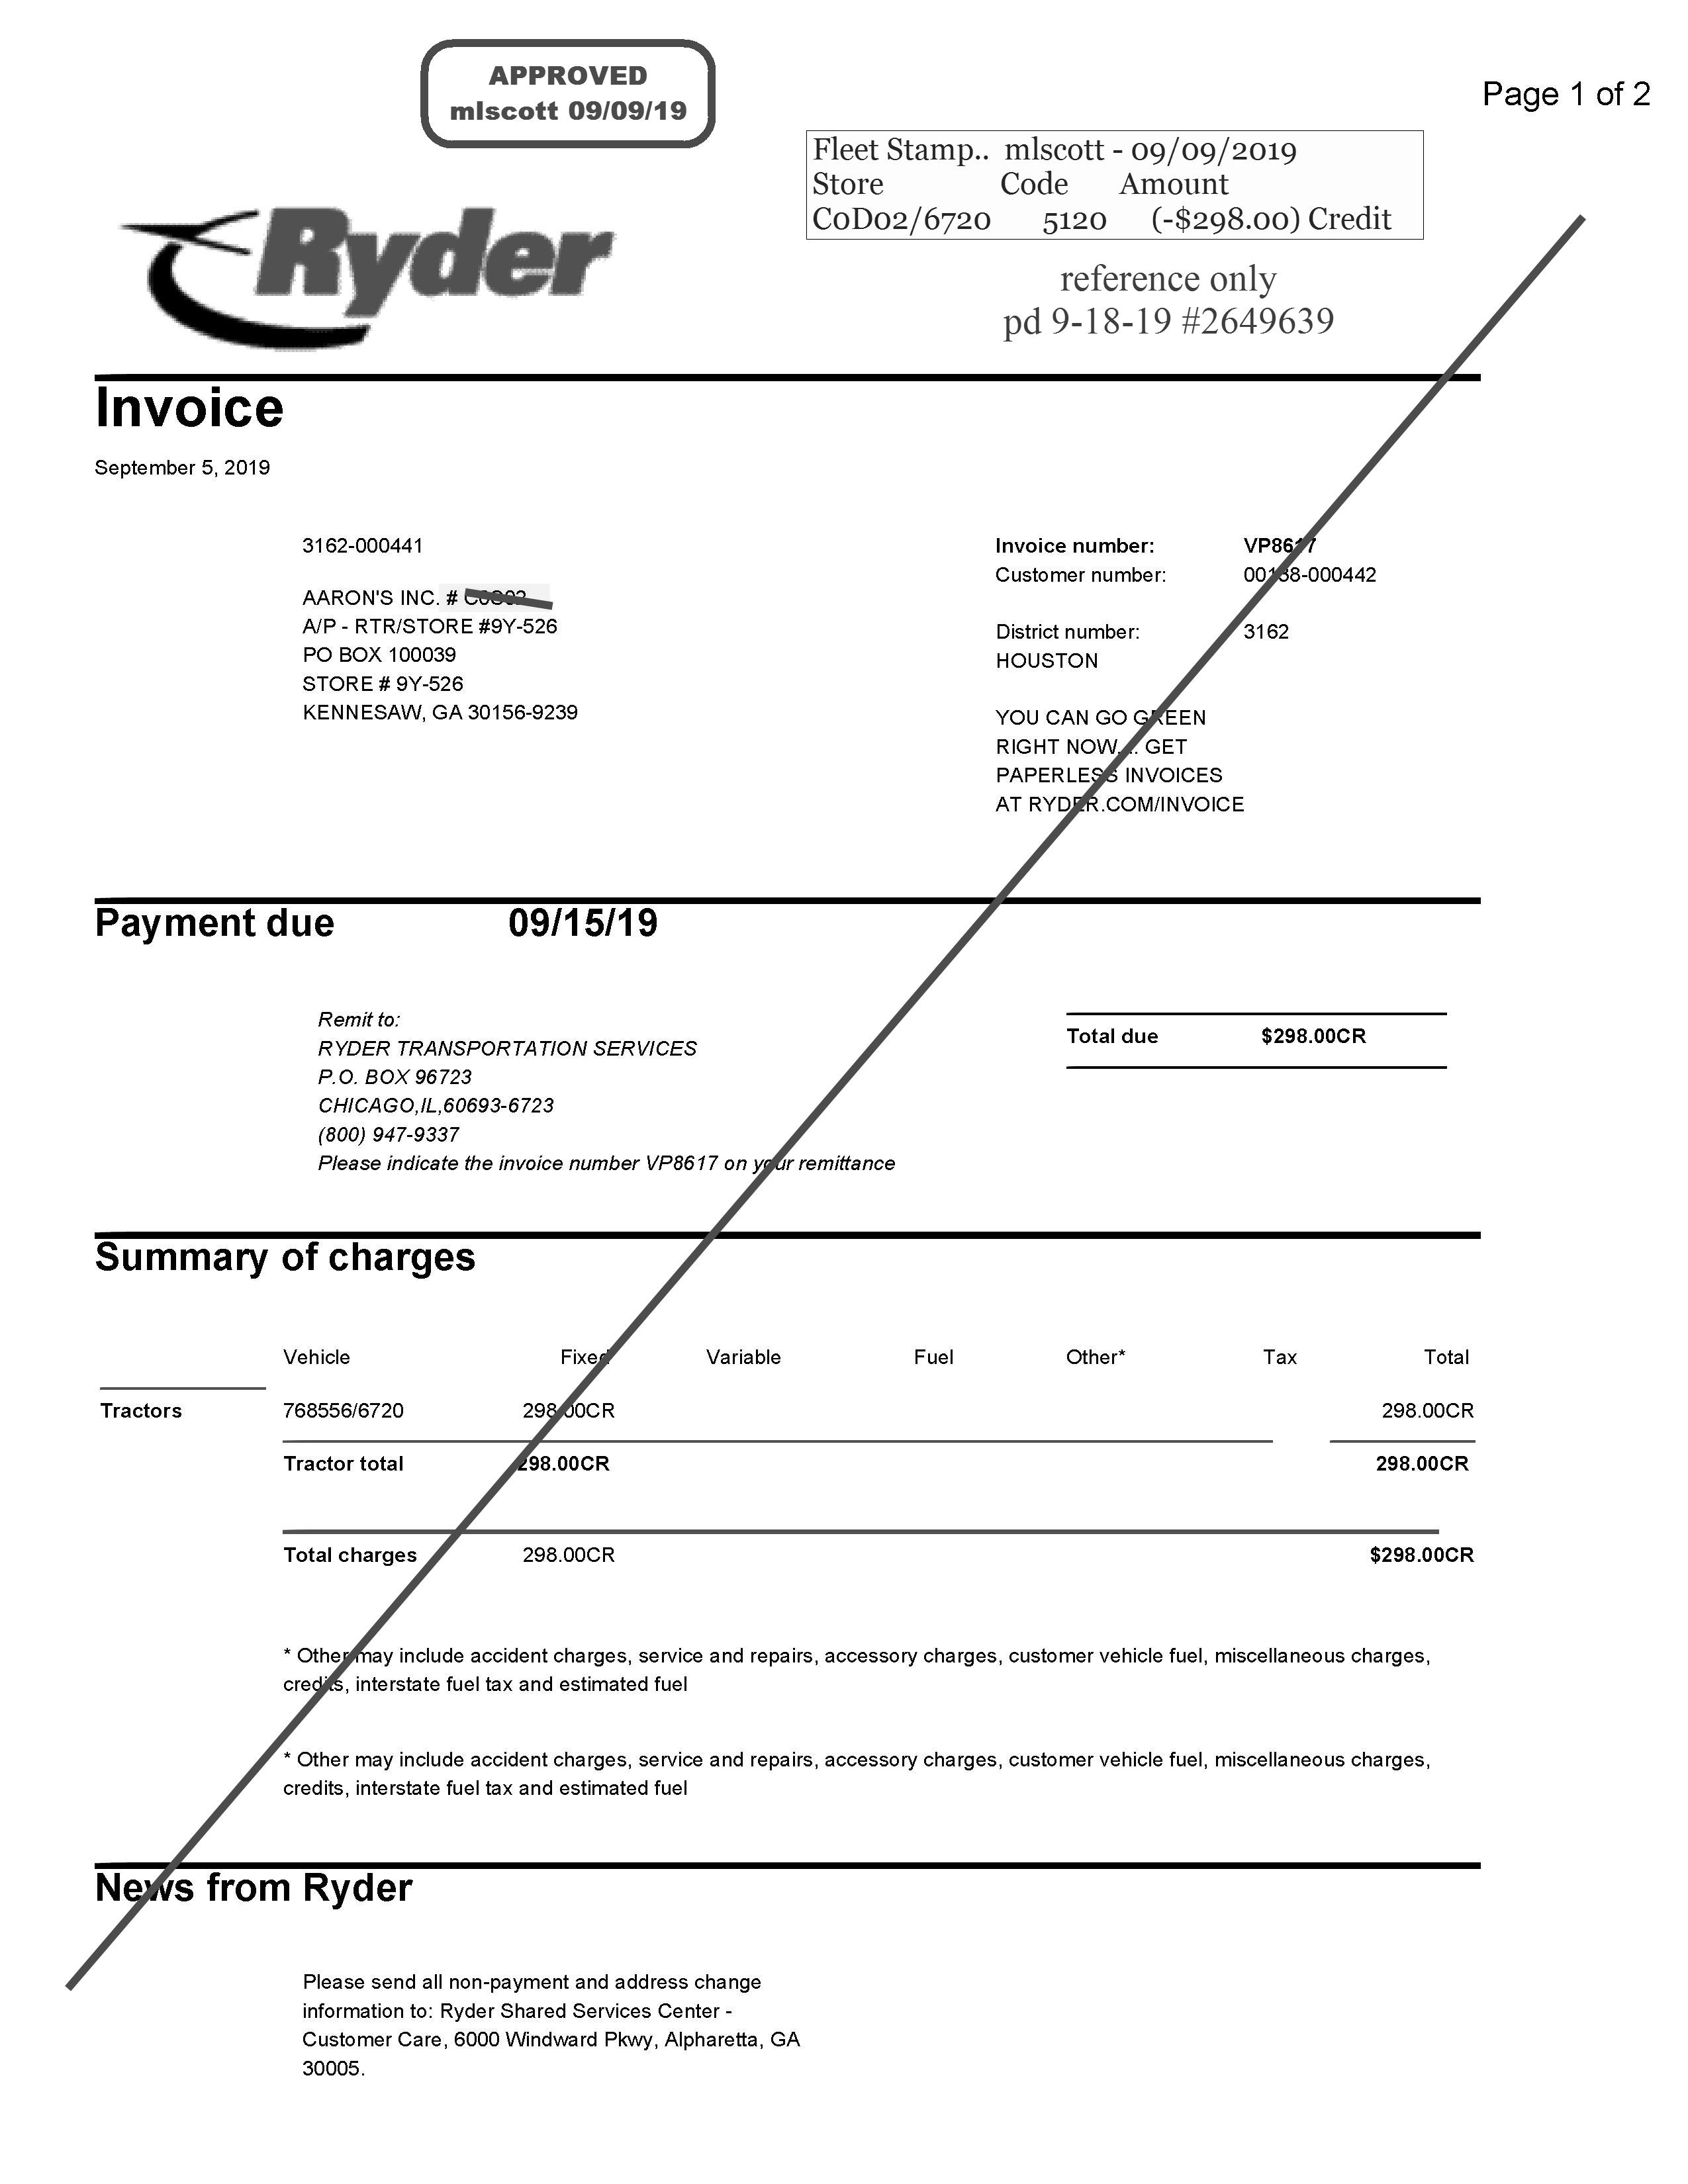B_Paragraph: (314, 1003, 903, 1182), (280, 1743, 1442, 1810), (277, 1640, 1440, 1702), (805, 128, 1404, 246), (301, 1961, 805, 2101), (996, 534, 1387, 674), (298, 581, 587, 727), (993, 697, 1252, 826), (1002, 255, 1342, 342), (442, 51, 699, 131), (1459, 55, 1667, 126), (1057, 1014, 1381, 1058), (502, 902, 663, 950), (96, 454, 273, 487), (294, 530, 440, 558), (98, 1393, 191, 1427)
B_SubTitle: (90, 1230, 479, 1283), (92, 1870, 418, 1915), (87, 899, 340, 950)
B_Table: (277, 1340, 1489, 1592)
B_Title: (122, 183, 628, 360), (85, 386, 298, 448)
